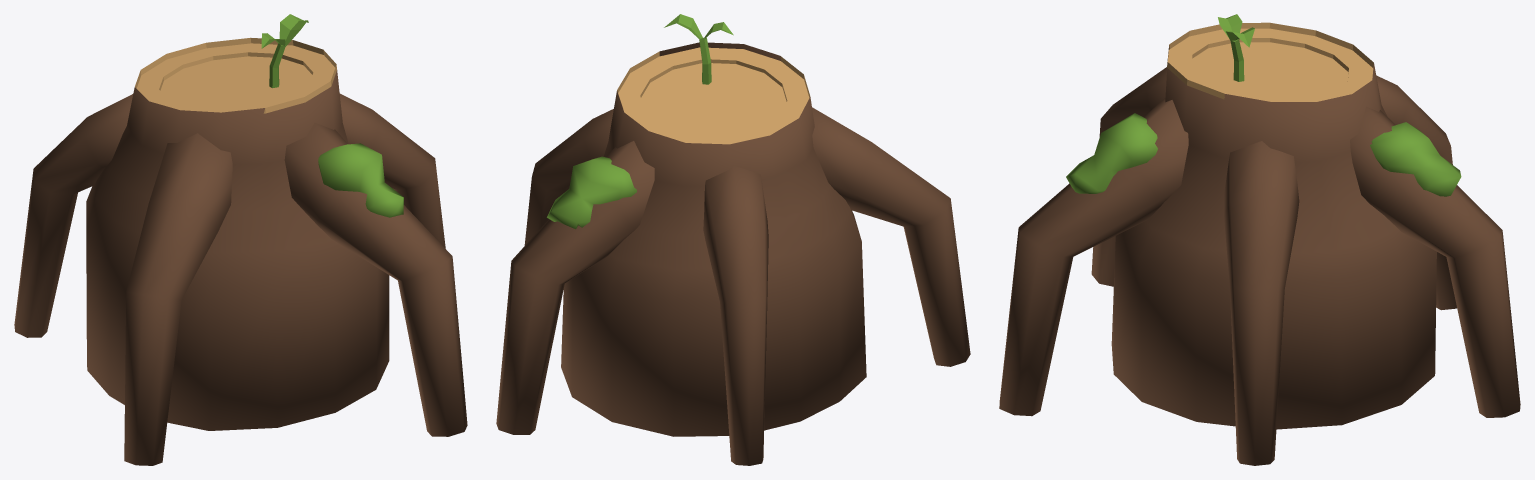
The model's file is stump.glb.
3 renders of one model, left to right at view 1: azimuth 30°, elevation 25°; view 2: azimuth 150°, elevation 25°; view 3: azimuth 270°, elevation 25°, orthographic. The views are drawn at different scales.
Parts seen in each view (by area): view 1: stump; view 2: stump; view 3: stump.
Part boxes in pixels (left/top/right/bottom): stump: left=14, top=14, right=467, bottom=465; stump: left=496, top=14, right=970, bottom=465; stump: left=999, top=14, right=1520, bottom=465.
Size of the model in its own units: 1.67 by 1.39 by 1.83.
